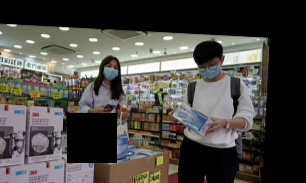with_mask: (197, 58, 222, 80), (101, 63, 119, 82)
